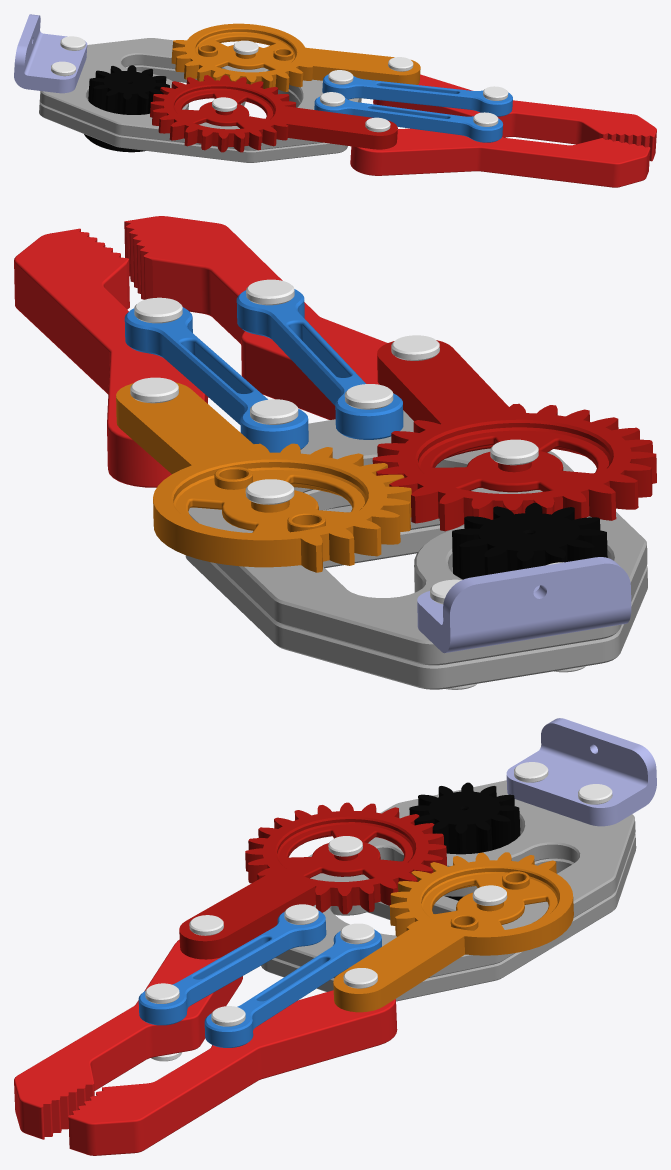
Rendered from Robot Gripper.gltf.
The picture shows the model from 3 angles, top to bottom: view 1: azimuth 30°, elevation 25°; view 2: azimuth 150°, elevation 25°; view 3: azimuth 270°, elevation 25°; orthographic projection. The views are drawn at different scales.
Visible parts, largest first — view 1: Solid1061, Solid1050, Solid1051, Solid1047, Solid1060, Solid1048, Solid1049, Solid1063, Solid1064, Solid1062, Solid1066, Solid1055 (+8 smaller); view 2: Solid1051, Solid1050, Solid1047, Solid1060, Solid1061, Solid1049, Solid1048, Solid1064, Solid1062, Solid1063, Solid1052, Solid1053 (+6 smaller); view 3: Solid1060, Solid1050, Solid1051, Solid1061, Solid1047, Solid1049, Solid1064, Solid1062, Solid1048, Solid1063, Solid1056.
Part boxes in pixels (x1=…): Solid1061: x1=350, y1=128, x2=650, y2=187; Solid1050: x1=150, y1=75, x2=397, y2=152; Solid1051: x1=171, y1=23, x2=420, y2=91; Solid1047: x1=39, y1=38, x2=361, y2=150; Solid1060: x1=373, y1=74, x2=656, y2=161; Solid1048: x1=39, y1=65, x2=361, y2=162; Solid1049: x1=14, y1=14, x2=87, y2=93; Solid1063: x1=322, y1=74, x2=512, y2=116; Solid1064: x1=84, y1=65, x2=169, y2=152; Solid1062: x1=314, y1=96, x2=503, y2=142; Solid1066: x1=60, y1=36, x2=85, y2=50; Solid1055: x1=388, y1=57, x2=413, y2=71; Solid1051: x1=116, y1=382, x2=411, y2=572; Solid1050: x1=372, y1=340, x2=656, y2=531; Solid1047: x1=188, y1=410, x2=647, y2=665; Solid1060: x1=14, y1=228, x2=208, y2=487; Solid1061: x1=124, y1=216, x2=387, y2=419; Solid1049: x1=417, y1=557, x2=631, y2=653; Solid1048: x1=185, y1=489, x2=647, y2=689; Solid1064: x1=452, y1=503, x2=607, y2=579; Solid1062: x1=236, y1=289, x2=403, y2=439; Solid1063: x1=124, y1=307, x2=308, y2=452; Solid1052: x1=245, y1=479, x2=294, y2=504; Solid1053: x1=490, y1=439, x2=538, y2=465; Solid1060: x1=68, y1=990, x2=397, y2=1155; Solid1050: x1=179, y1=802, x2=446, y2=959; Solid1051: x1=333, y1=852, x2=573, y2=1012; Solid1061: x1=14, y1=939, x2=242, y2=1139; Solid1047: x1=275, y1=780, x2=635, y2=978; Solid1049: x1=506, y1=718, x2=656, y2=826; Solid1064: x1=409, y1=782, x2=520, y2=900; Solid1062: x1=138, y1=910, x2=326, y2=1025; Solid1048: x1=261, y1=831, x2=636, y2=1001; Solid1063: x1=204, y1=929, x2=381, y2=1047; Solid1056: x1=145, y1=983, x2=181, y2=1061.
Bounding box in the file's own units: 0.1087 × 0.0206 × 0.0934.
